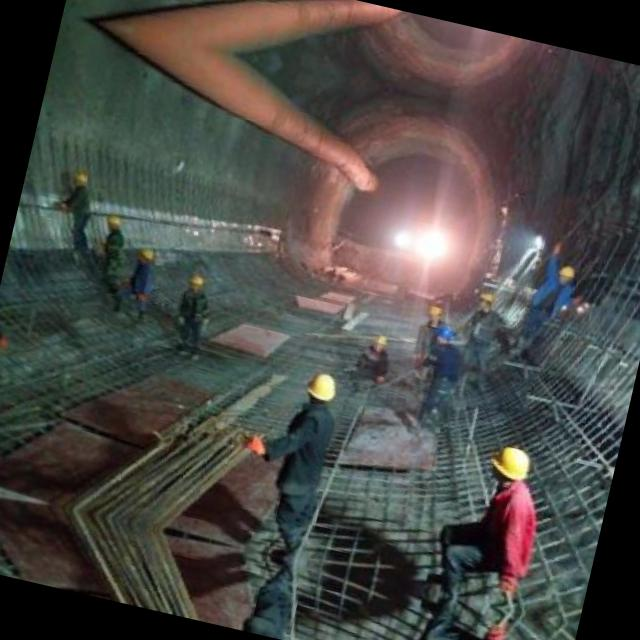helmet: (486, 438, 536, 489), (303, 365, 342, 408), (553, 259, 576, 286), (369, 326, 391, 354), (472, 286, 494, 314), (68, 164, 92, 188), (102, 208, 126, 232), (430, 321, 453, 346), (426, 298, 446, 326), (183, 270, 206, 294), (134, 243, 155, 266)
